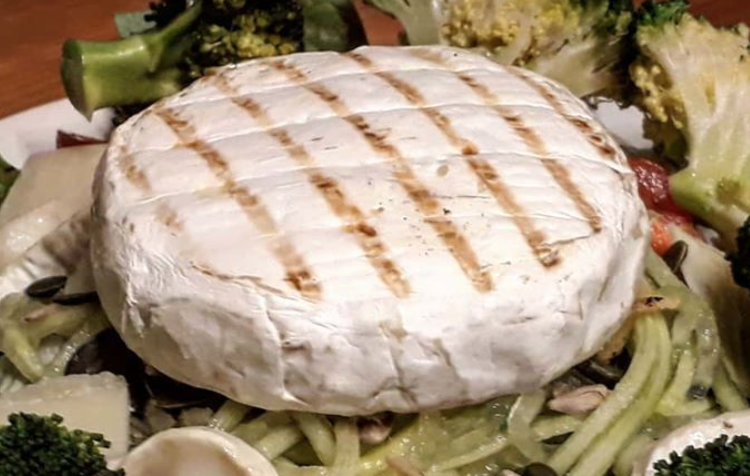camembert: (87, 43, 649, 419)
